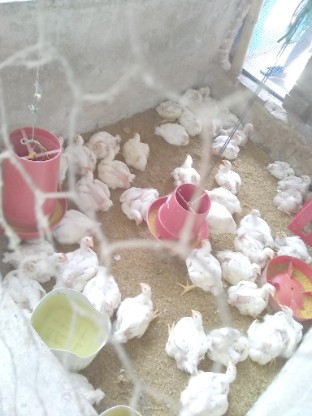Pollos: (181, 363, 241, 416), (114, 279, 158, 350), (195, 315, 249, 370), (41, 195, 101, 241), (164, 304, 209, 365), (83, 257, 127, 317), (181, 233, 221, 297), (2, 252, 44, 310), (226, 271, 275, 313), (212, 245, 264, 284), (10, 234, 71, 267), (98, 147, 138, 193), (249, 321, 286, 370), (118, 186, 160, 225), (78, 168, 112, 216), (70, 358, 104, 406), (275, 226, 311, 269), (238, 228, 281, 264), (277, 300, 306, 353), (197, 199, 237, 236), (63, 130, 96, 173), (73, 236, 104, 281), (166, 149, 200, 187), (124, 129, 153, 171), (204, 182, 237, 217), (242, 206, 273, 239), (88, 122, 119, 154), (273, 188, 306, 216), (156, 123, 190, 149), (207, 131, 245, 154), (216, 160, 242, 192), (152, 97, 181, 121), (180, 112, 206, 138), (266, 155, 294, 176), (221, 105, 238, 122), (298, 171, 312, 189), (245, 120, 255, 131), (192, 94, 201, 103), (197, 87, 207, 92)
